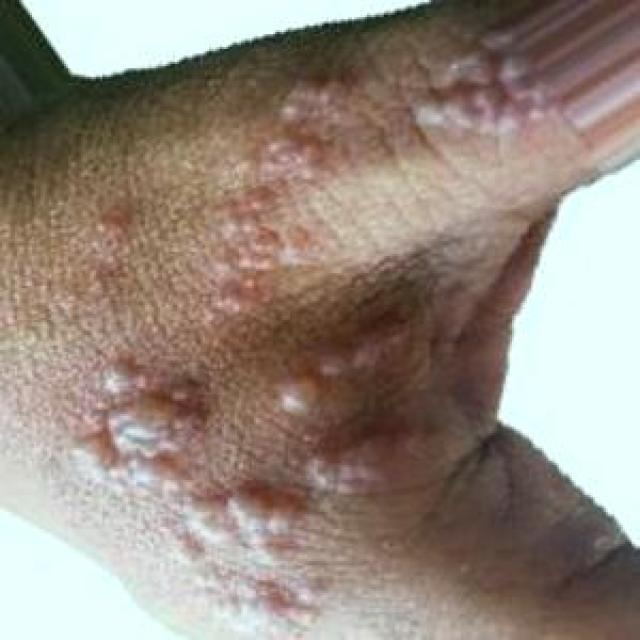Shingles: (67, 355, 321, 639), (192, 65, 357, 331), (406, 29, 555, 139), (266, 302, 411, 412), (300, 422, 439, 489)
